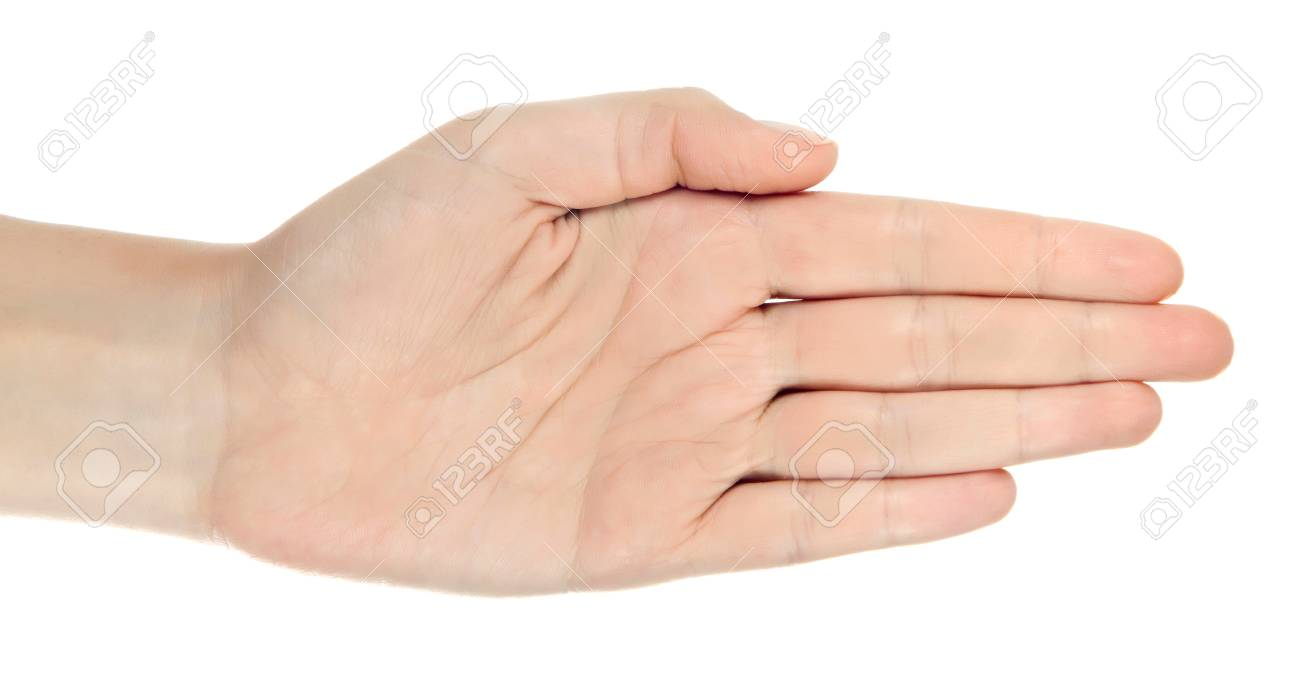No_Glove: (204, 82, 1239, 614)
